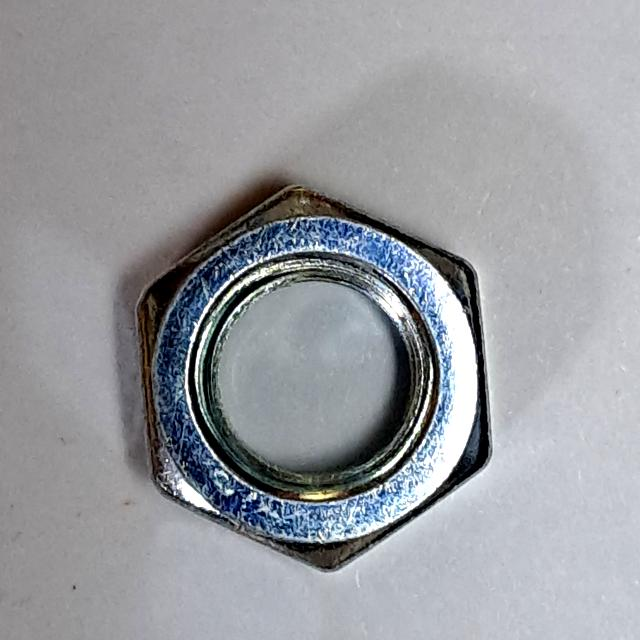Excellent: (111, 171, 505, 589)
